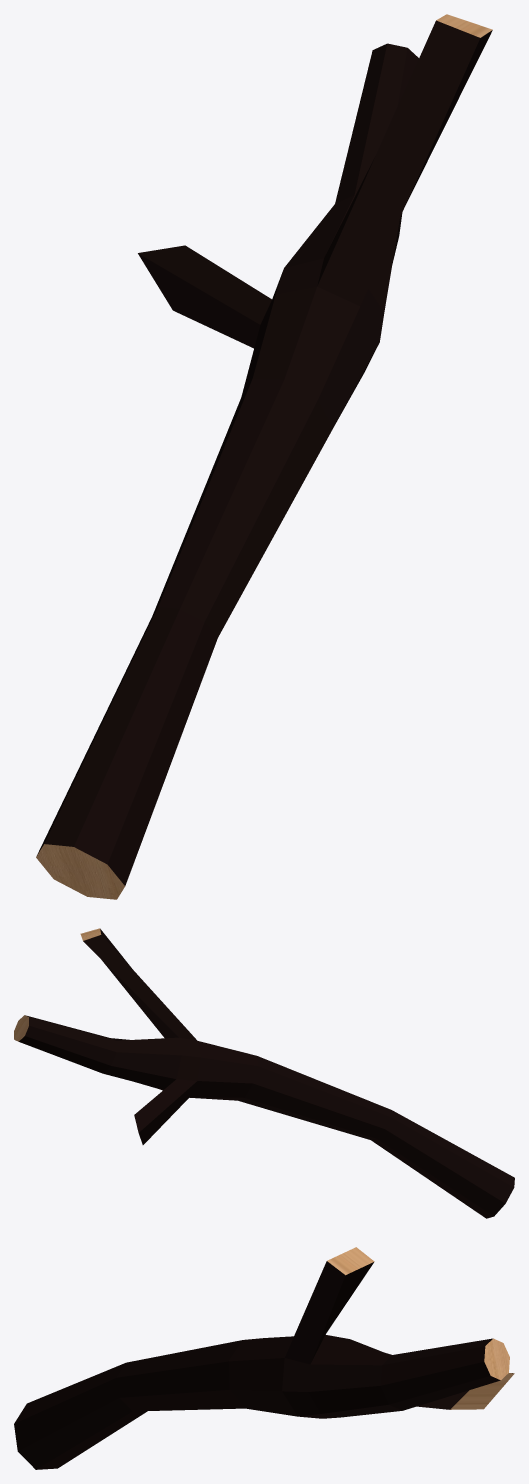
The model's file is Branch.obj.
3 views of the same model, one above another, from view 1: azimuth 30°, elevation 25°; view 2: azimuth 150°, elevation 25°; view 3: azimuth 270°, elevation 25° (orthographic). The views are drawn at different scales.
Parts seen in each view (by area): view 1: Cylinder; view 2: Cylinder; view 3: Cylinder.
Part boxes in pixels (<box>): Cylinder: <box>36,14,492,899</box>; Cylinder: <box>14,928,514,1218</box>; Cylinder: <box>14,1247,514,1469</box>.
Bounding box in the file's own units: 6.46 × 5.25 × 5.75.
